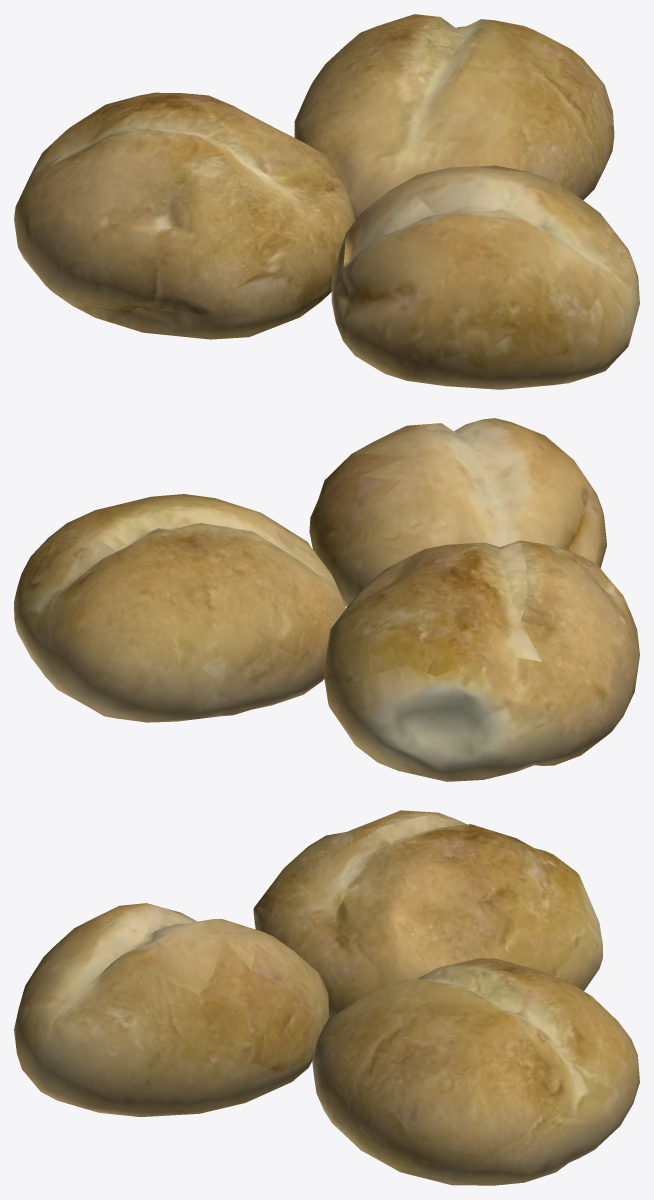
Rendered from feast_bread.glb.
3 views of the same model, one above another, from view 1: azimuth 30°, elevation 25°; view 2: azimuth 150°, elevation 25°; view 3: azimuth 270°, elevation 25° (orthographic). The views are drawn at different scales.
Visible parts, largest first — view 1: feast_bread; view 2: feast_bread; view 3: feast_bread.
Boxes of the visible parts, box(x1,y1,x2,y2) form: feast_bread: box(14, 14, 639, 389); feast_bread: box(14, 418, 639, 781); feast_bread: box(14, 810, 639, 1185).
Size of the model in its own units: 0.2157 by 0.0638 by 0.2103.
1 material, 1 textured.
